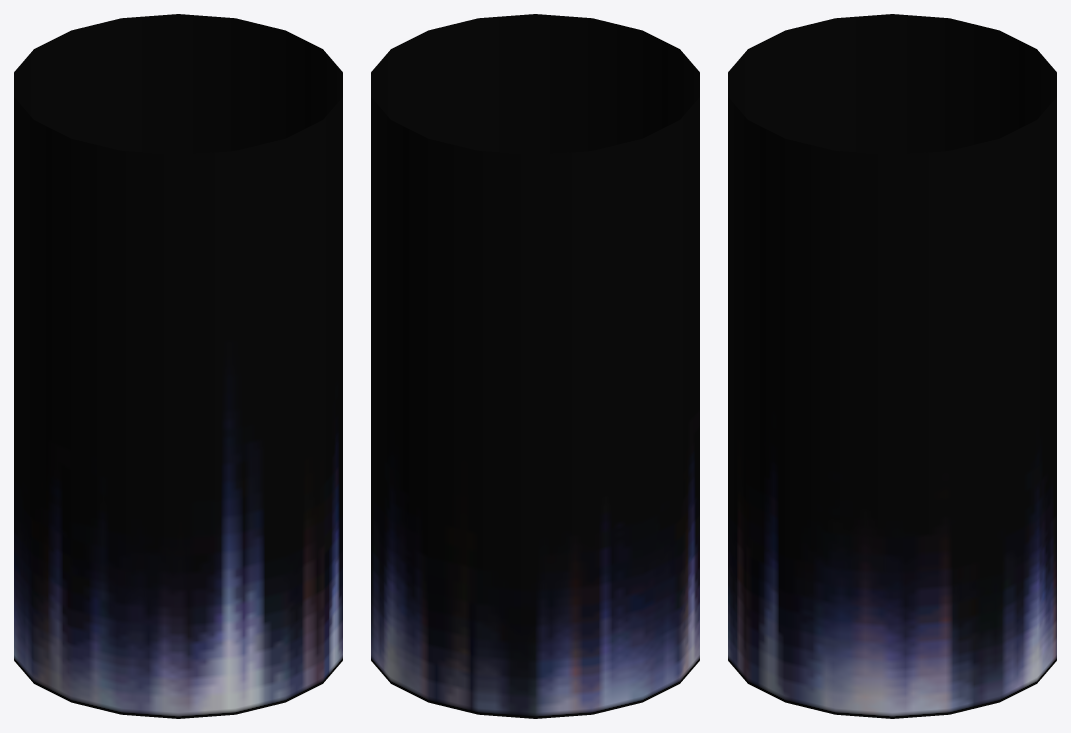
Rendered from jiamianwuhui_shedeng_yuanzhu02.FBX.
3 views of the same model, side by side, from view 1: azimuth 30°, elevation 25°; view 2: azimuth 150°, elevation 25°; view 3: azimuth 270°, elevation 25° (orthographic).
Parts seen in each view (by area): view 1: Cylinder001; view 2: Cylinder001; view 3: Cylinder001.
Boxes of the visible parts, <box> form: Cylinder001: <box>14,14,342,718</box>; Cylinder001: <box>371,14,699,718</box>; Cylinder001: <box>728,14,1056,718</box>.
Size of the model in its own units: 47.47 by 88.44 by 46.75.
1 material, 1 textured.
